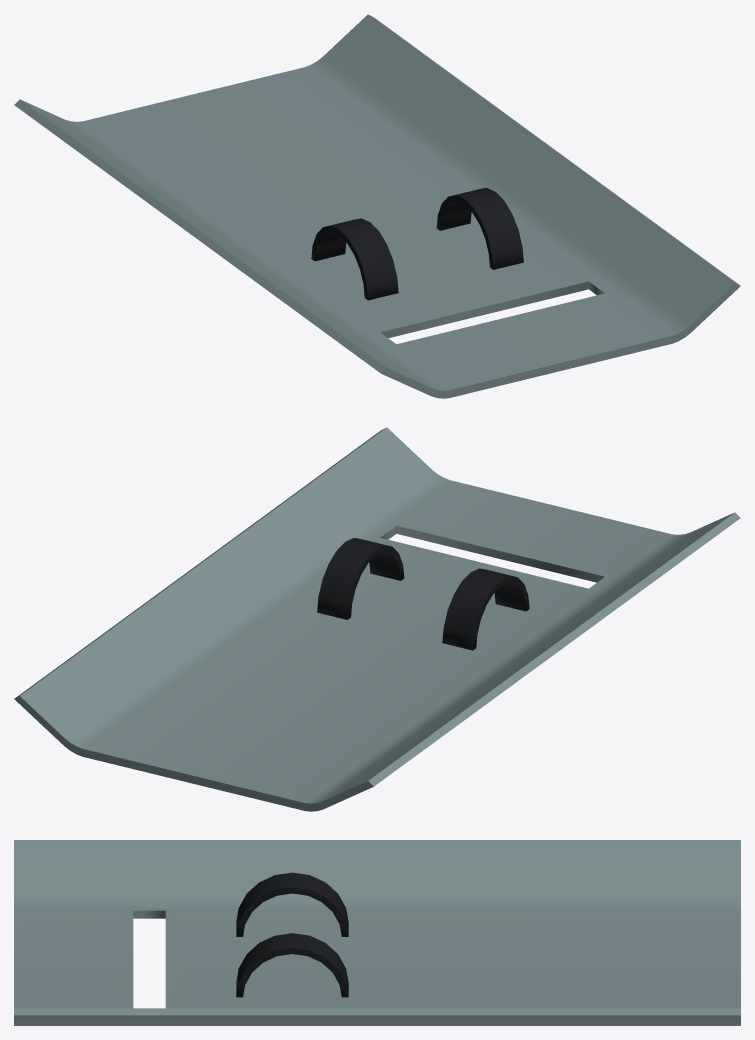
The model's file is Shield.fbx.
3 views of the same model, one above another, from view 1: azimuth 30°, elevation 25°; view 2: azimuth 150°, elevation 25°; view 3: azimuth 270°, elevation 25° (orthographic).
Visible parts, largest first — view 1: Shield; view 2: Shield; view 3: Shield.
Boxes of the visible parts, <box> form: Shield: <box>14,14,740,398</box>; Shield: <box>14,427,740,811</box>; Shield: <box>14,840,740,1025</box>.
Size of the model in its own units: 0.7734 by 0.1193 by 1.37.
